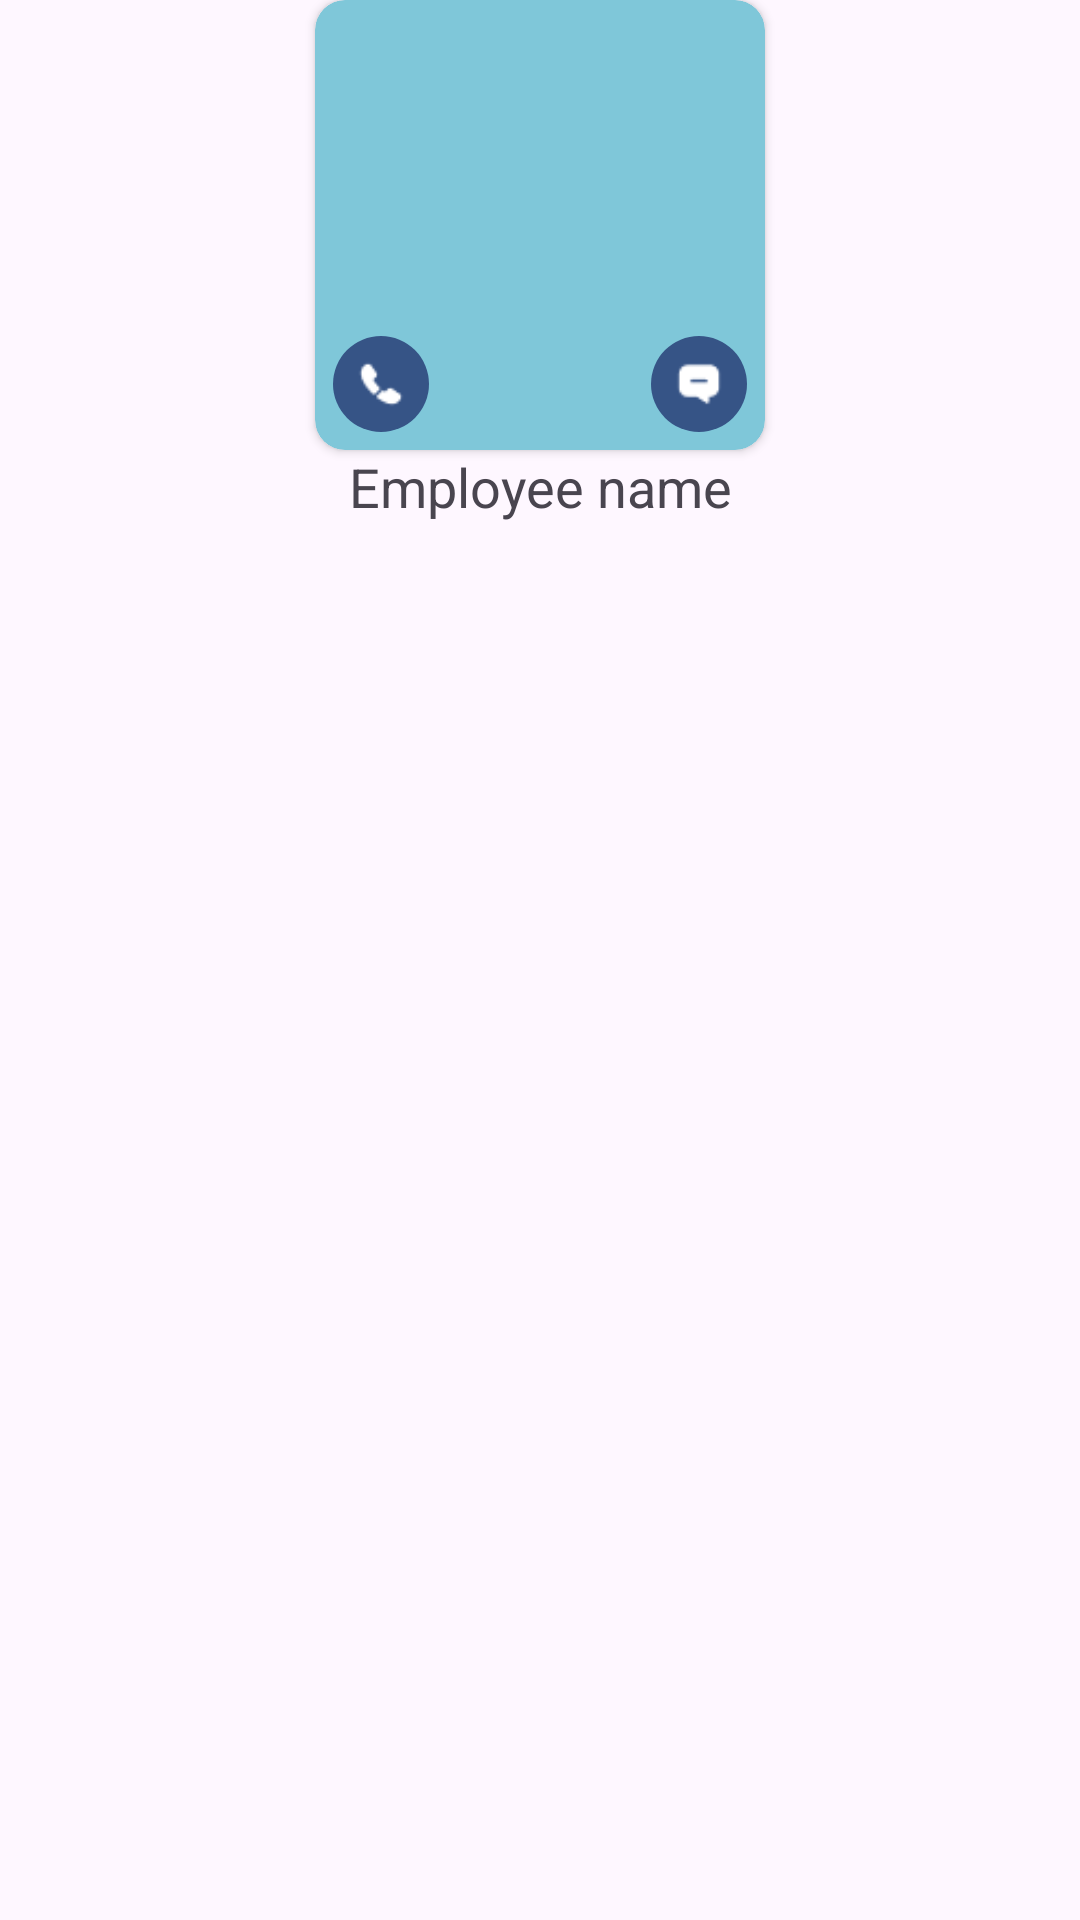

Icons on this 1080px×1920px Android screen, each with its box as bbox=(x1, y1, x2, y2):
call: bbox=(333, 336, 429, 432)
message: bbox=(651, 336, 747, 432)
